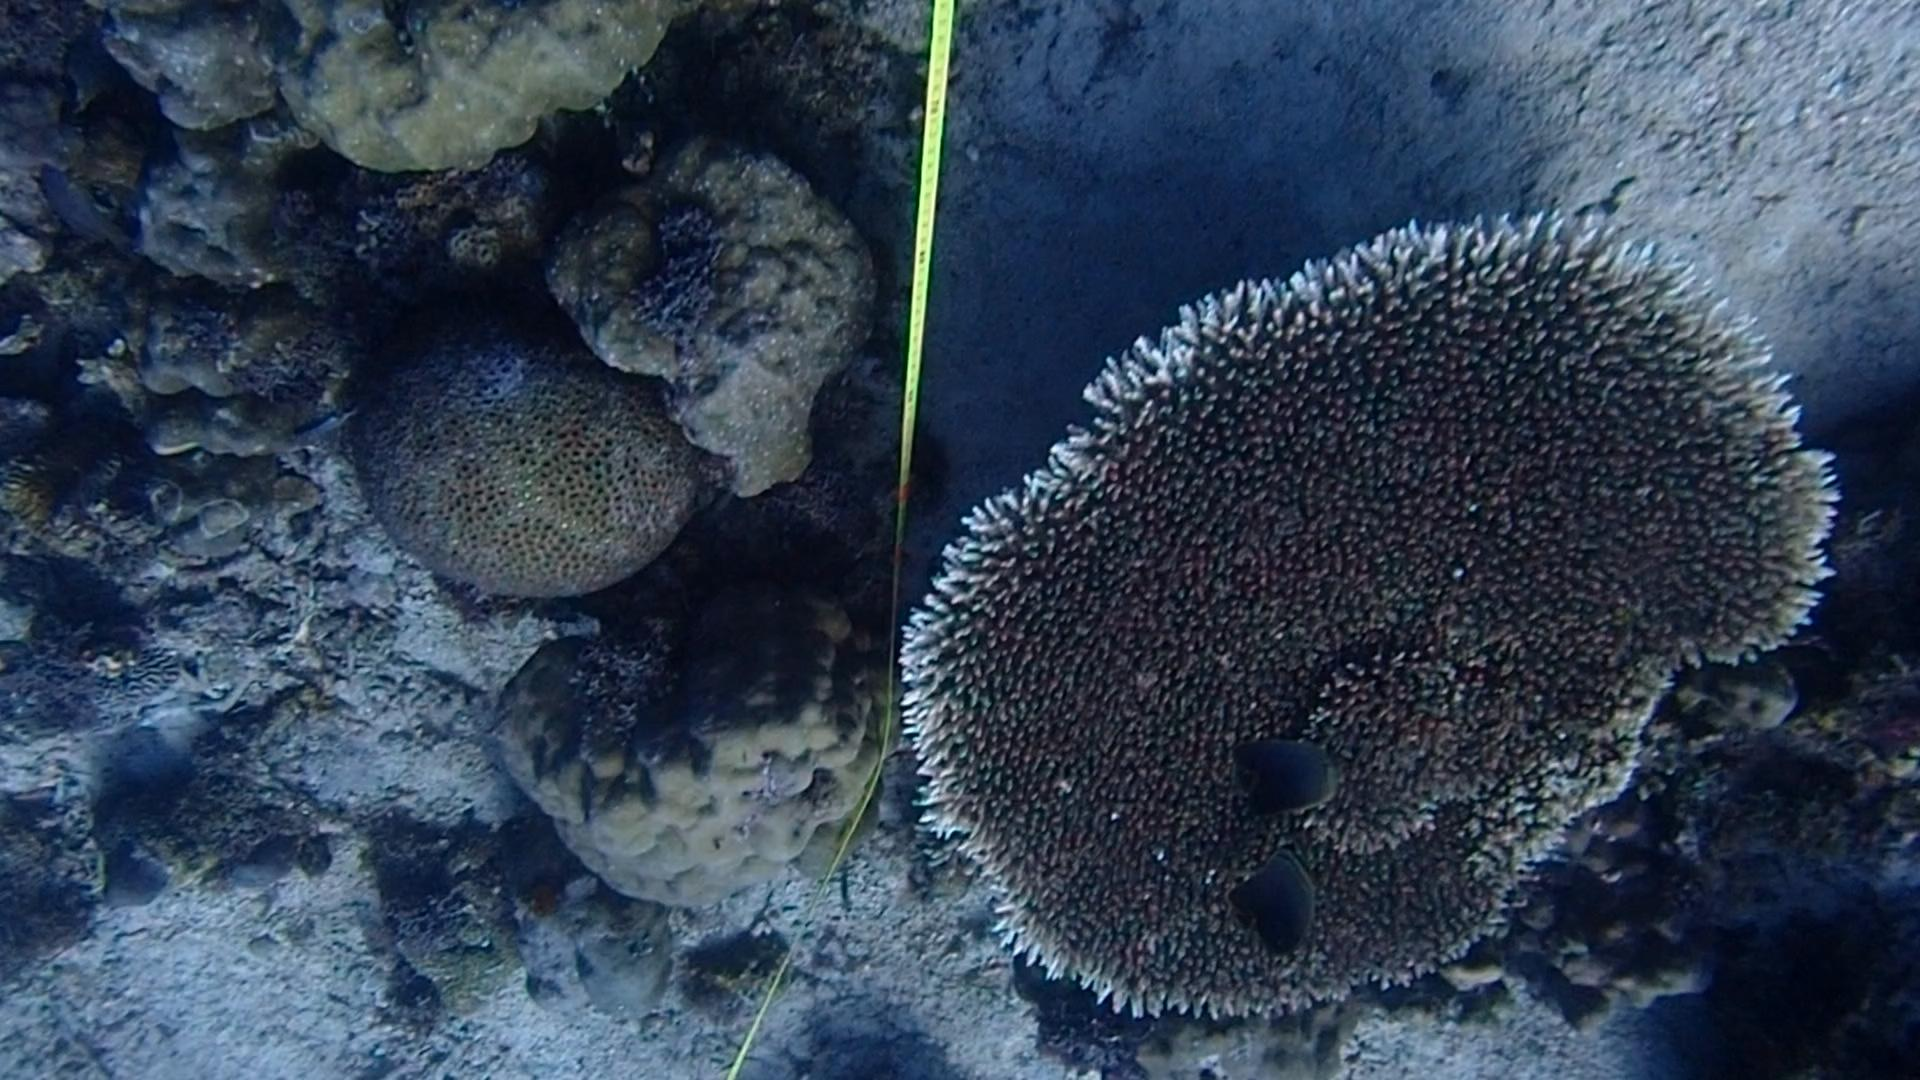Dark Blue Dory: (1220, 849, 1345, 965), (1222, 736, 1369, 827)
Light Fish: (295, 392, 357, 463)
